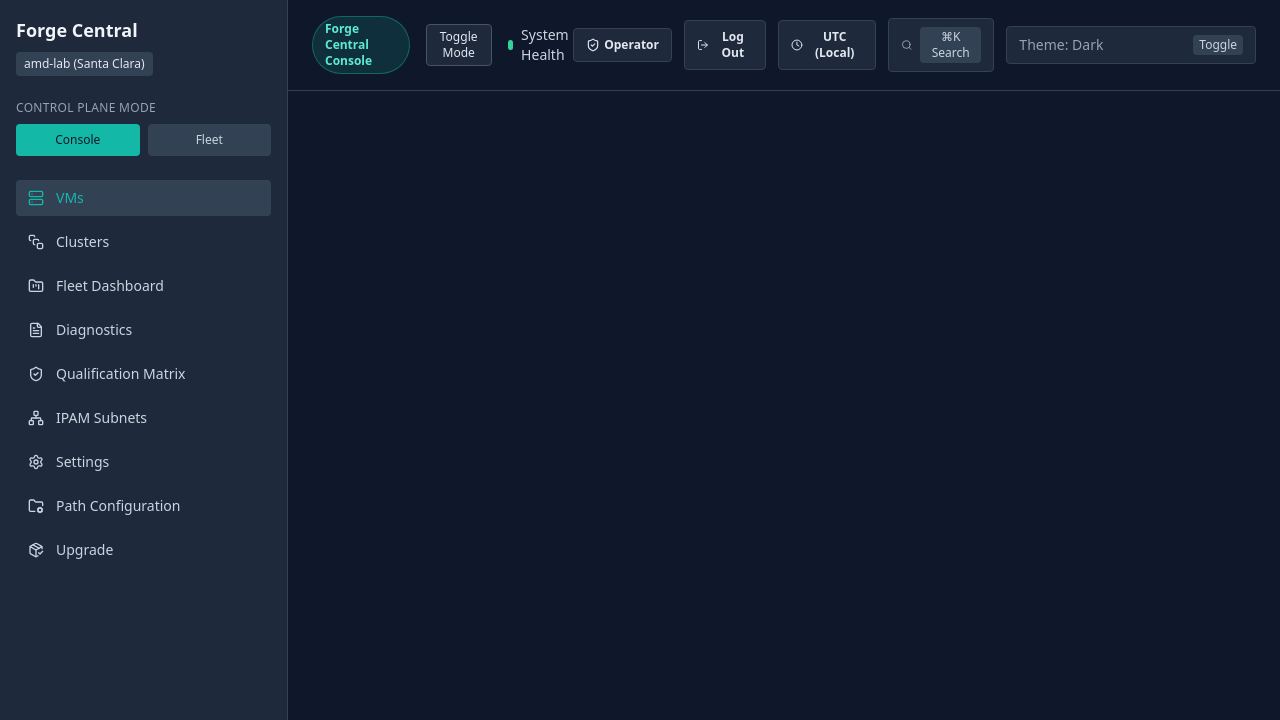
Test case: CommandPalette › filters results and navigates on click
The width and height of the screenshot is (1280, 720).
Press k
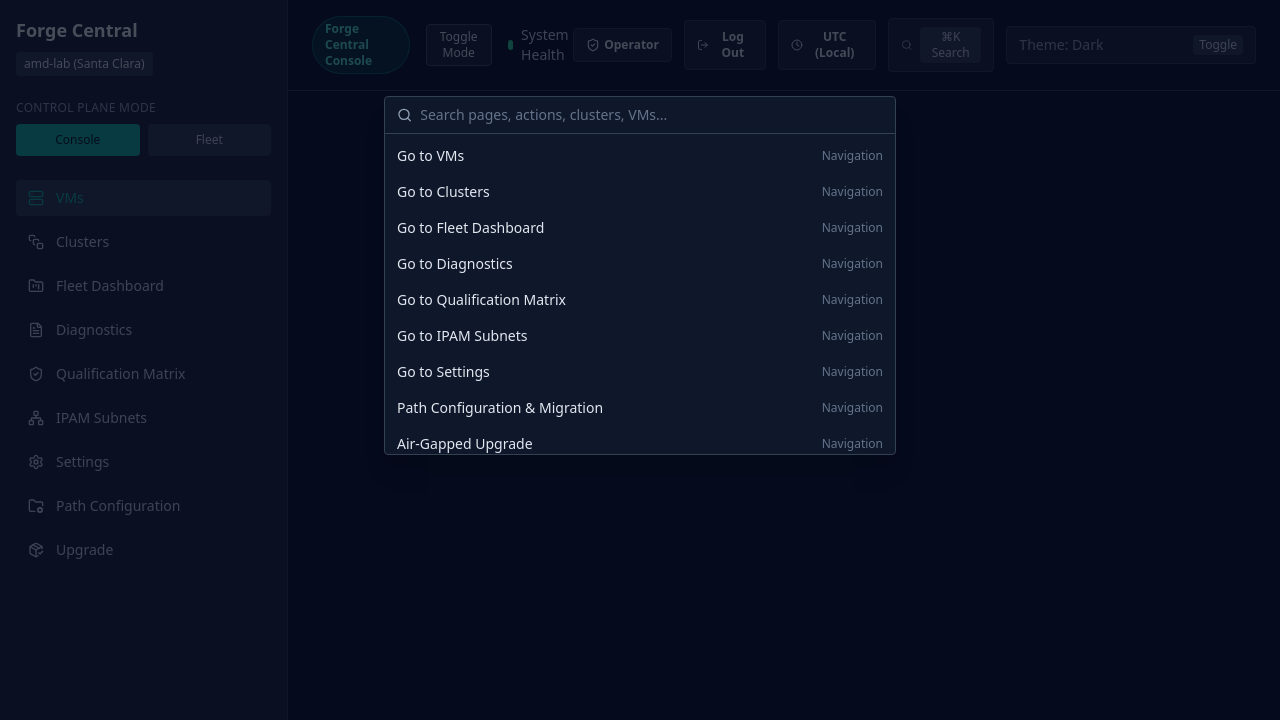
Type "fleet" into the field with test id "input-command-palette" at (652, 115), box [420, 105, 883, 125]
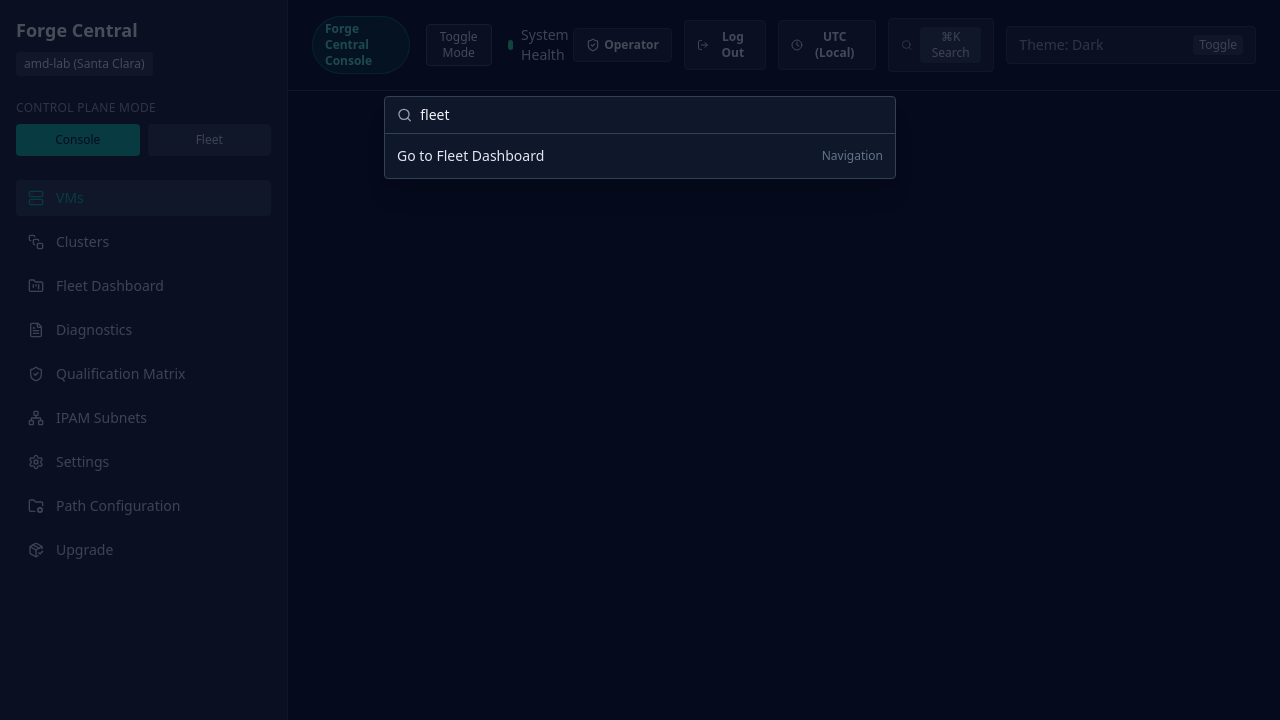
Now the button with test id "command-item-nav-fleet" is shown
Now the button with test id "command-item-nav-vms" is gone
Click the button with test id "command-item-nav-fleet" at (471, 156), box [385, 138, 895, 174]
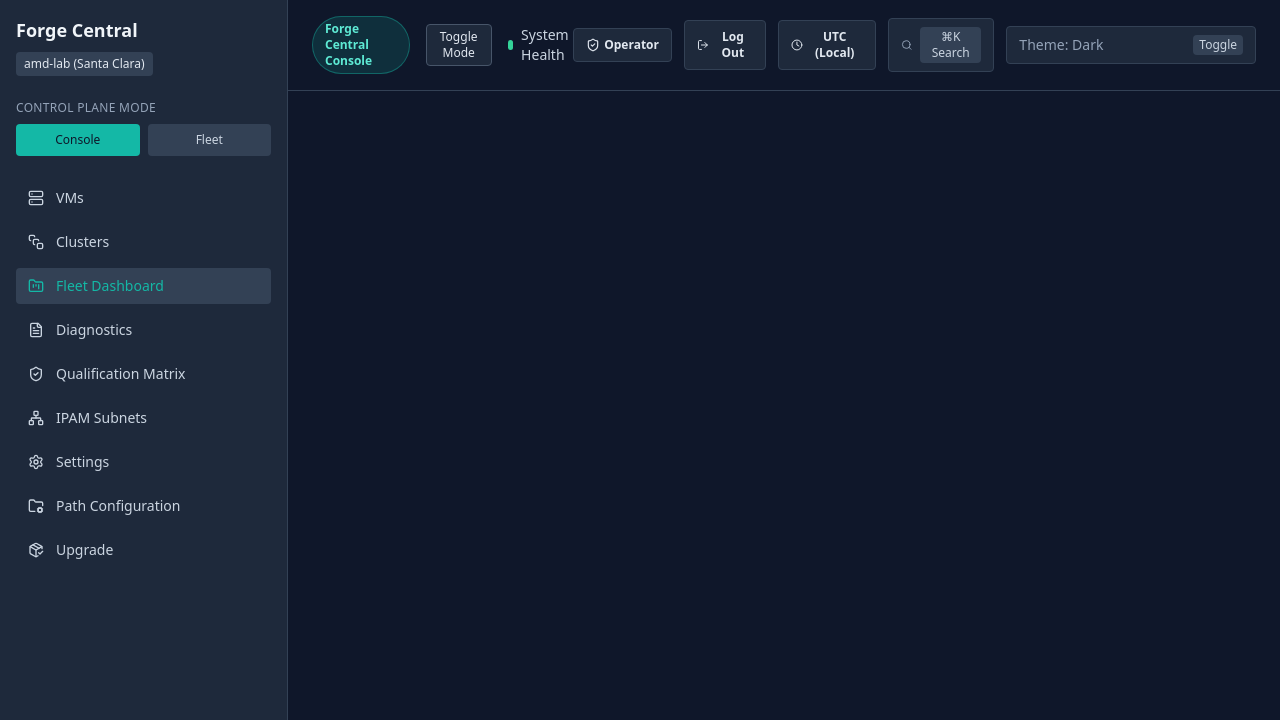
Now the dialog with test id "command-palette-modal" is gone
